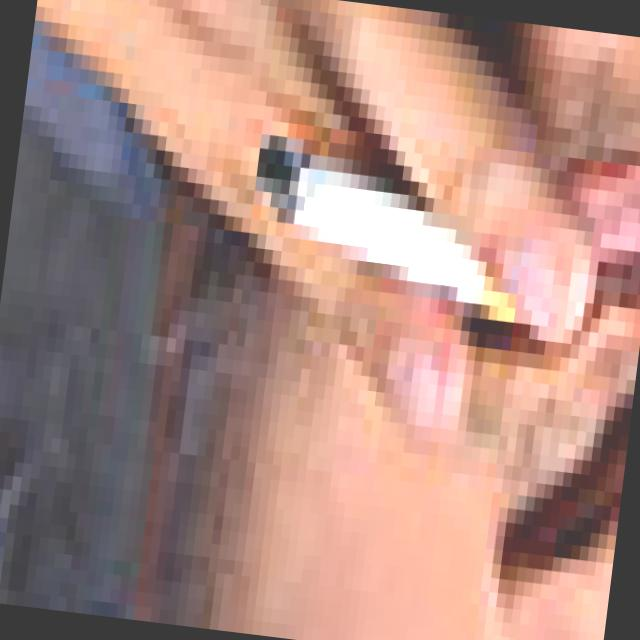cigarette: (234, 122, 546, 335)
